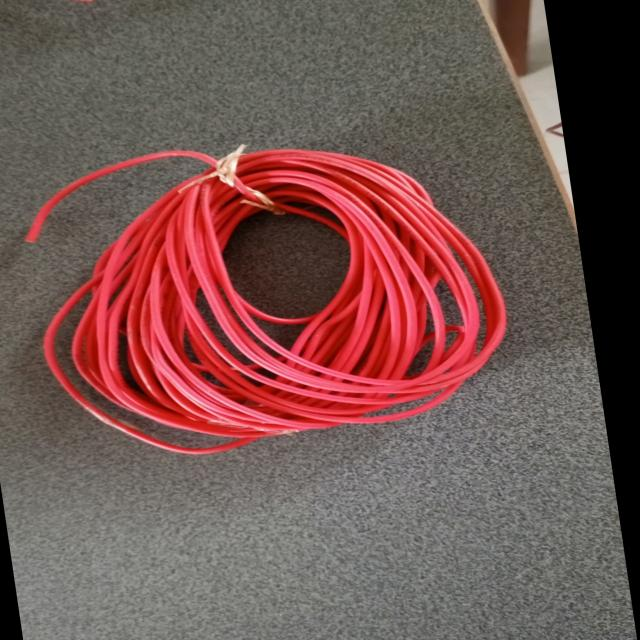Connecting Wires: (0, 125, 549, 465)
